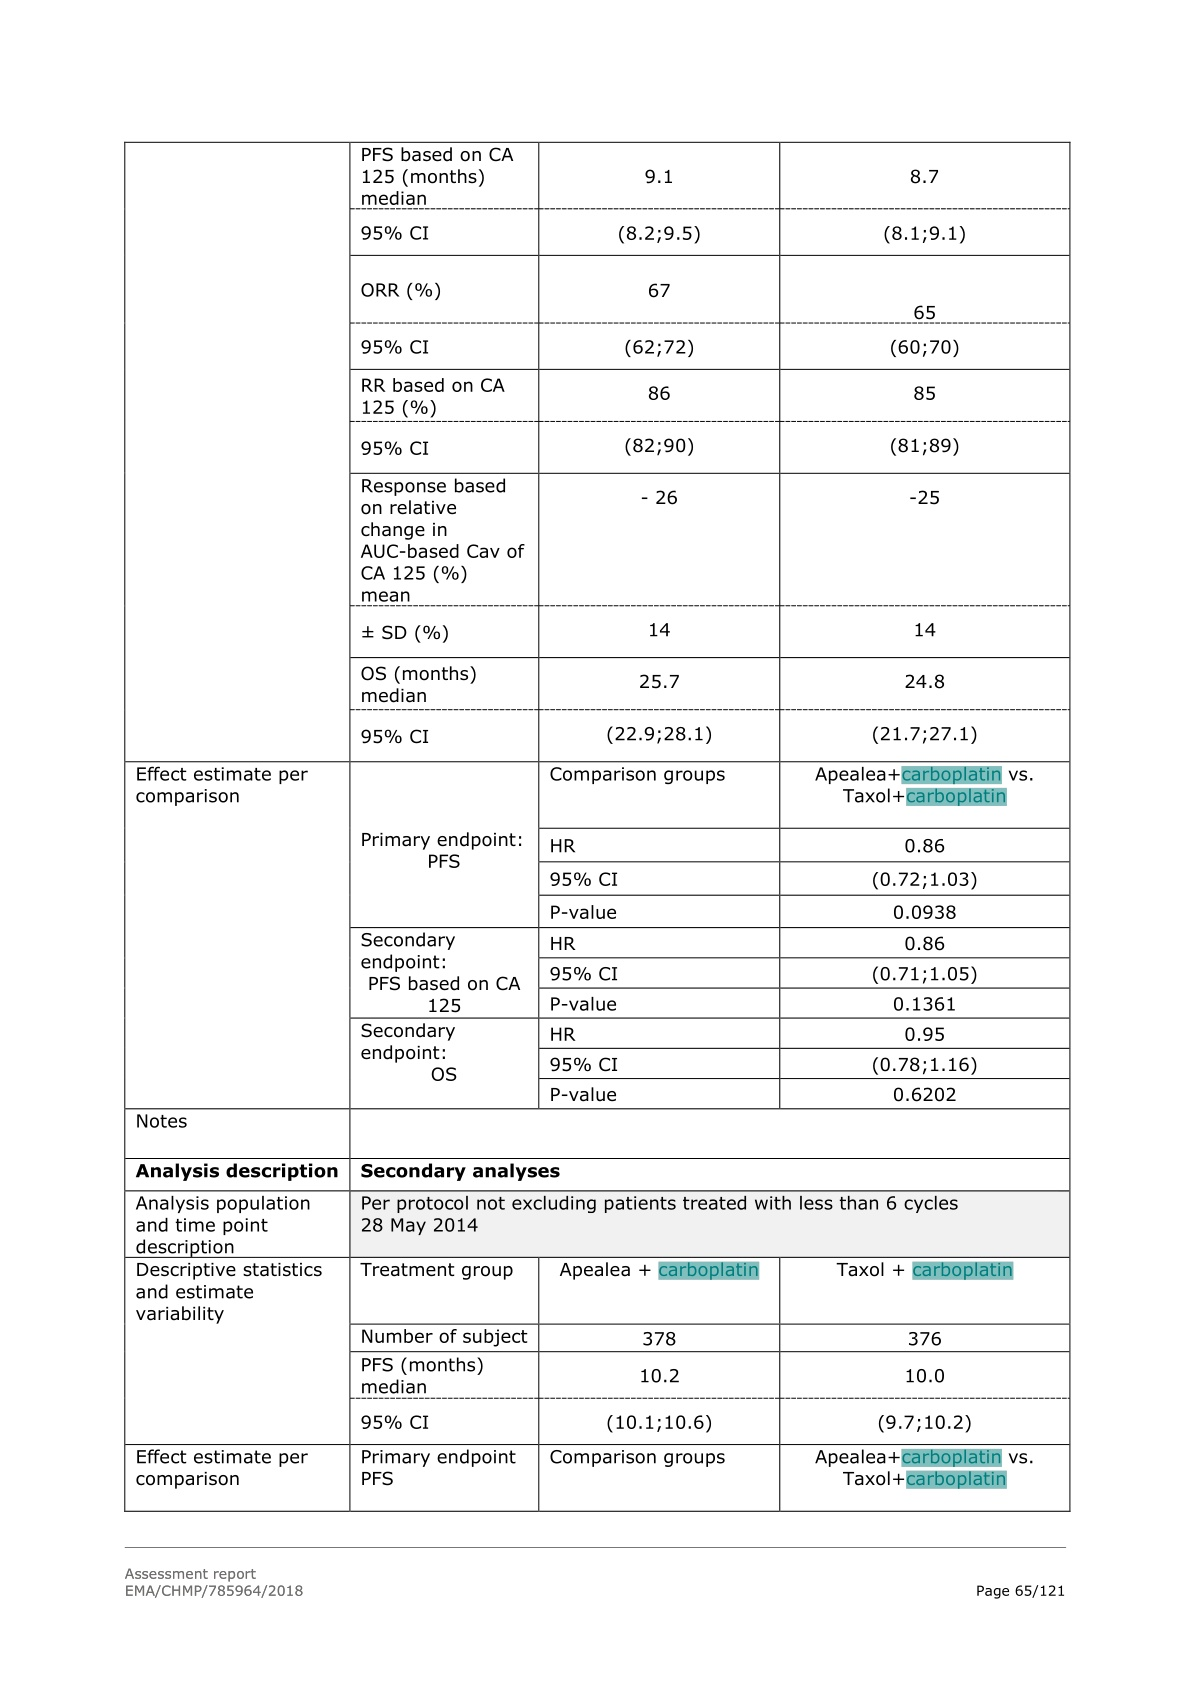merged_cells: (122, 140, 1072, 1513)
